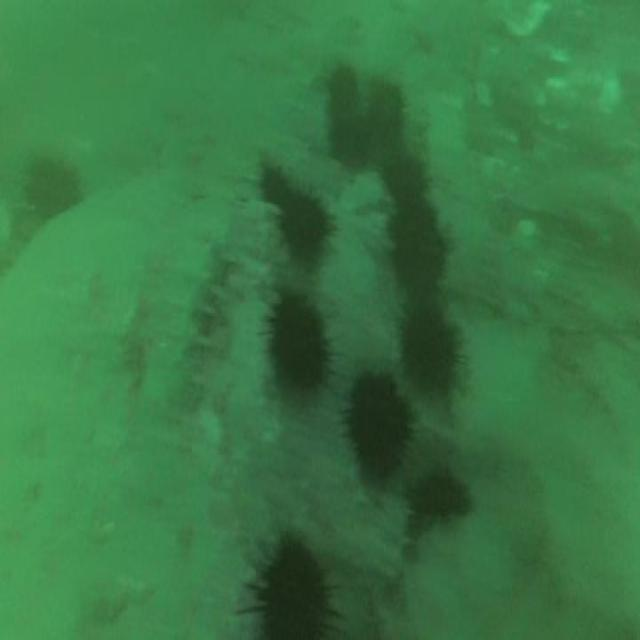echinus: (259, 537, 329, 640), (348, 373, 408, 477), (388, 200, 443, 298), (397, 306, 455, 396), (270, 300, 326, 392), (25, 157, 78, 218), (414, 468, 469, 520), (284, 190, 324, 258), (382, 147, 428, 204), (328, 109, 371, 169), (327, 65, 362, 114), (372, 78, 404, 130), (258, 167, 287, 204)
holothurian: (173, 239, 227, 376)
